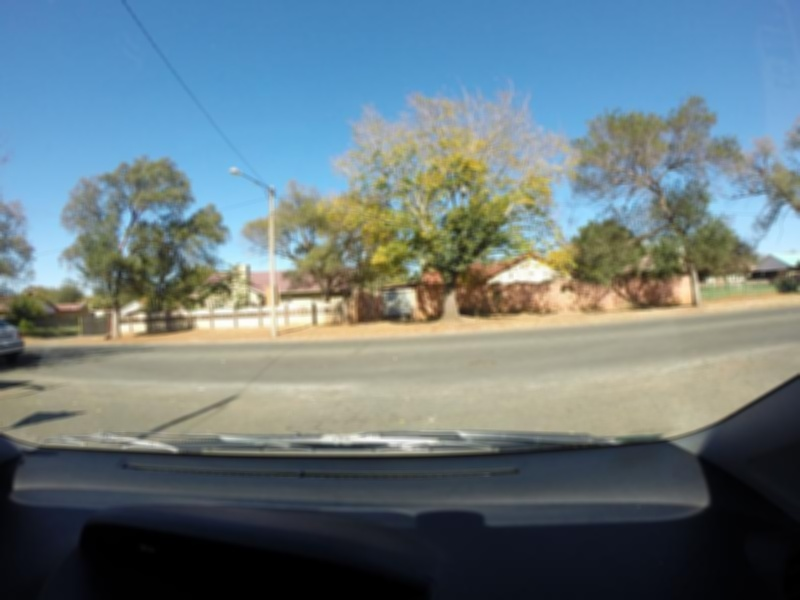pothole: (471, 359, 497, 368)
